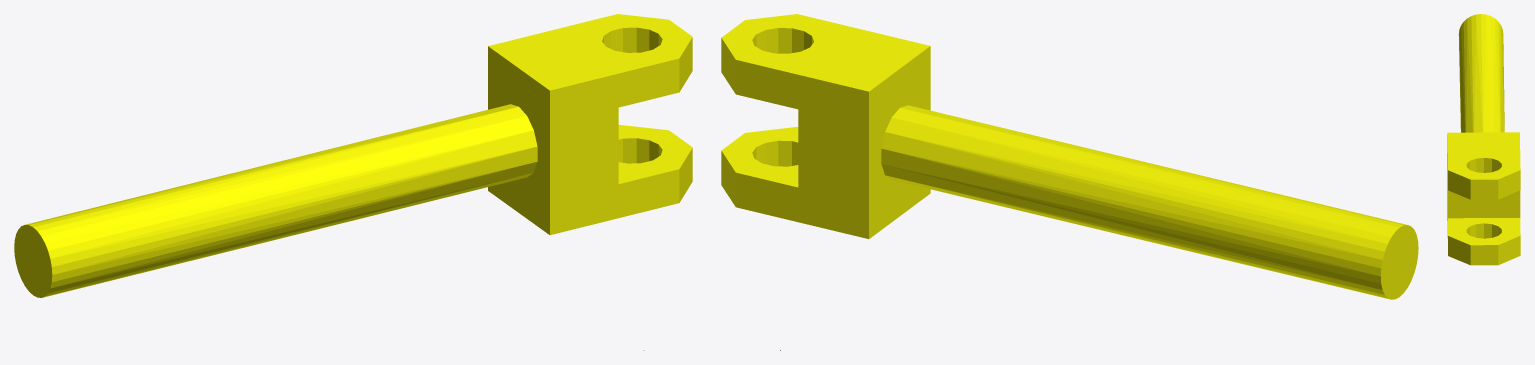
3 views of the same model, side by side, from view 1: azimuth 30°, elevation 25°; view 2: azimuth 150°, elevation 25°; view 3: azimuth 270°, elevation 25° (orthographic). The views are drawn at different scales.
Parts seen in each view (by area): view 1: node; view 2: node; view 3: node.
Boxes of the visible parts, x1,y1,x2,y2 form: node: [14, 14, 692, 350]; node: [721, 14, 1418, 350]; node: [1447, 14, 1520, 265].
Size of the model in its own units: 508 by 231 by 83.33.
